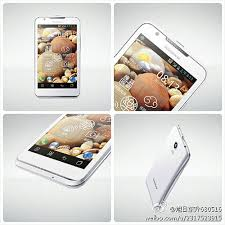lenovo: (32, 15, 80, 98), (142, 123, 190, 206)
